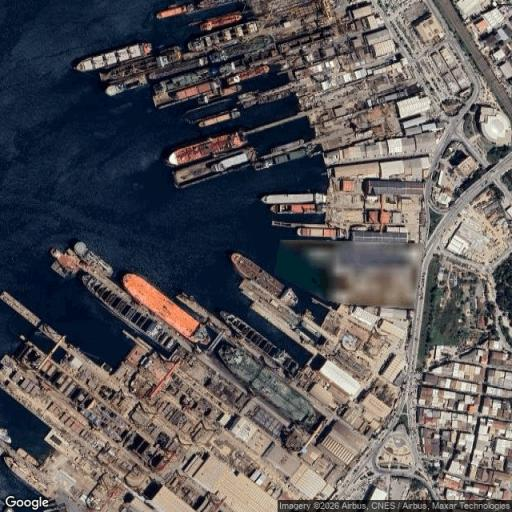ship: (217, 344, 319, 428), (82, 274, 176, 348), (123, 274, 209, 343), (220, 312, 299, 375), (173, 148, 253, 187), (100, 47, 181, 81), (168, 132, 245, 166), (231, 253, 284, 297), (4, 456, 55, 498), (75, 43, 151, 71), (188, 22, 258, 51), (153, 80, 220, 107), (209, 36, 273, 63), (154, 68, 209, 94), (75, 242, 114, 277), (148, 57, 207, 79), (255, 148, 307, 170), (106, 75, 147, 95), (202, 85, 243, 105), (228, 65, 269, 84), (197, 109, 240, 127), (200, 12, 242, 30), (51, 248, 80, 274), (211, 152, 248, 172), (262, 193, 326, 204), (156, 3, 195, 19), (297, 226, 344, 239), (269, 138, 305, 153), (271, 204, 323, 213), (197, 0, 235, 9), (238, 90, 260, 100), (0, 428, 11, 443)
